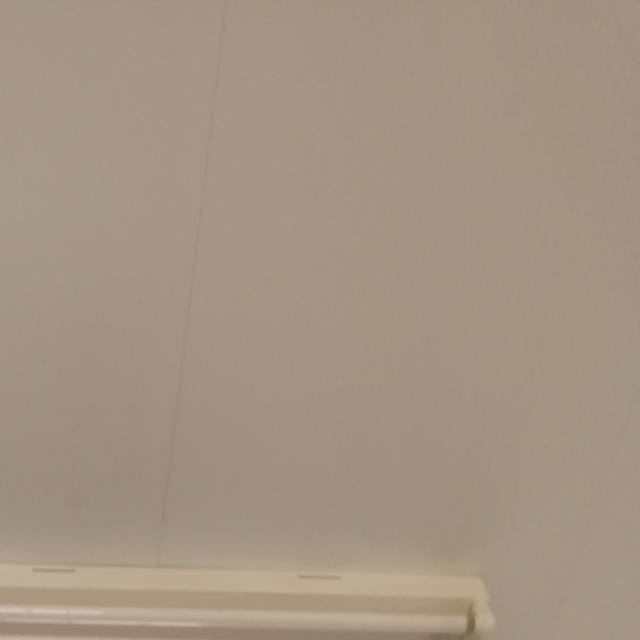fluorescent tube: (0, 516, 523, 640)
